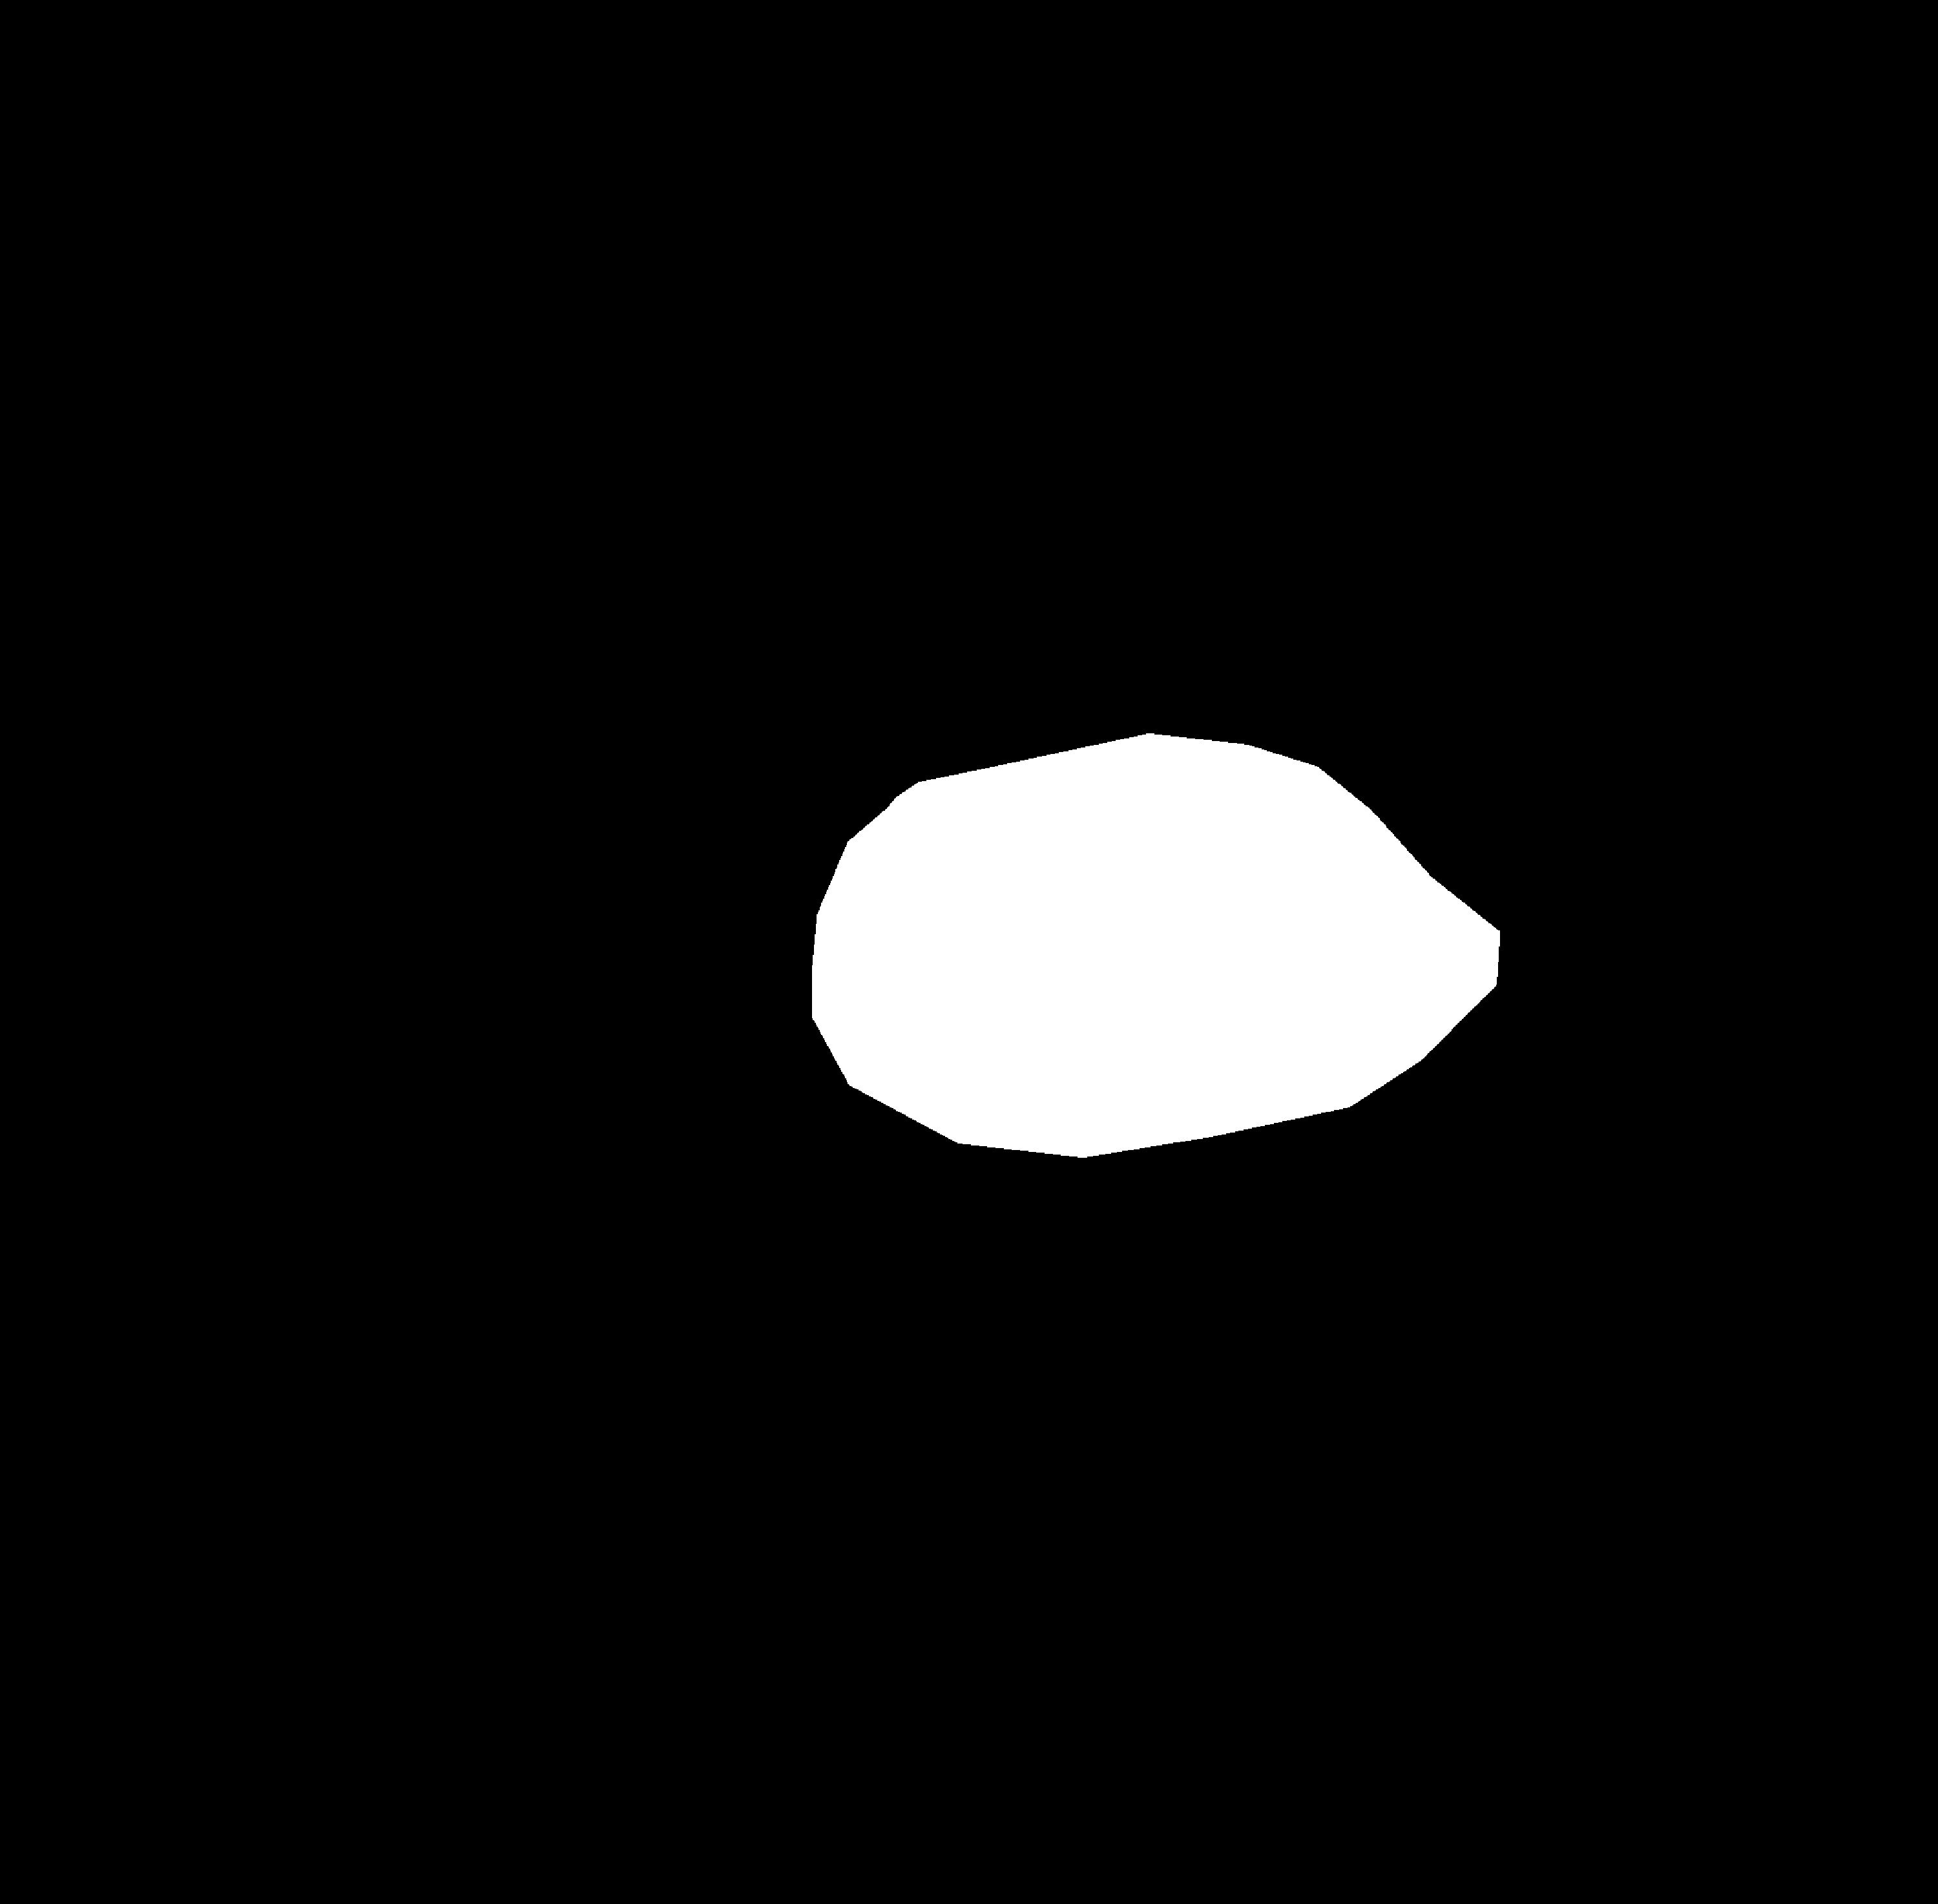heart: (809, 799, 1513, 1114)
left_lung: (350, 192, 986, 1107)
right_lung: (1126, 171, 1664, 1114)
